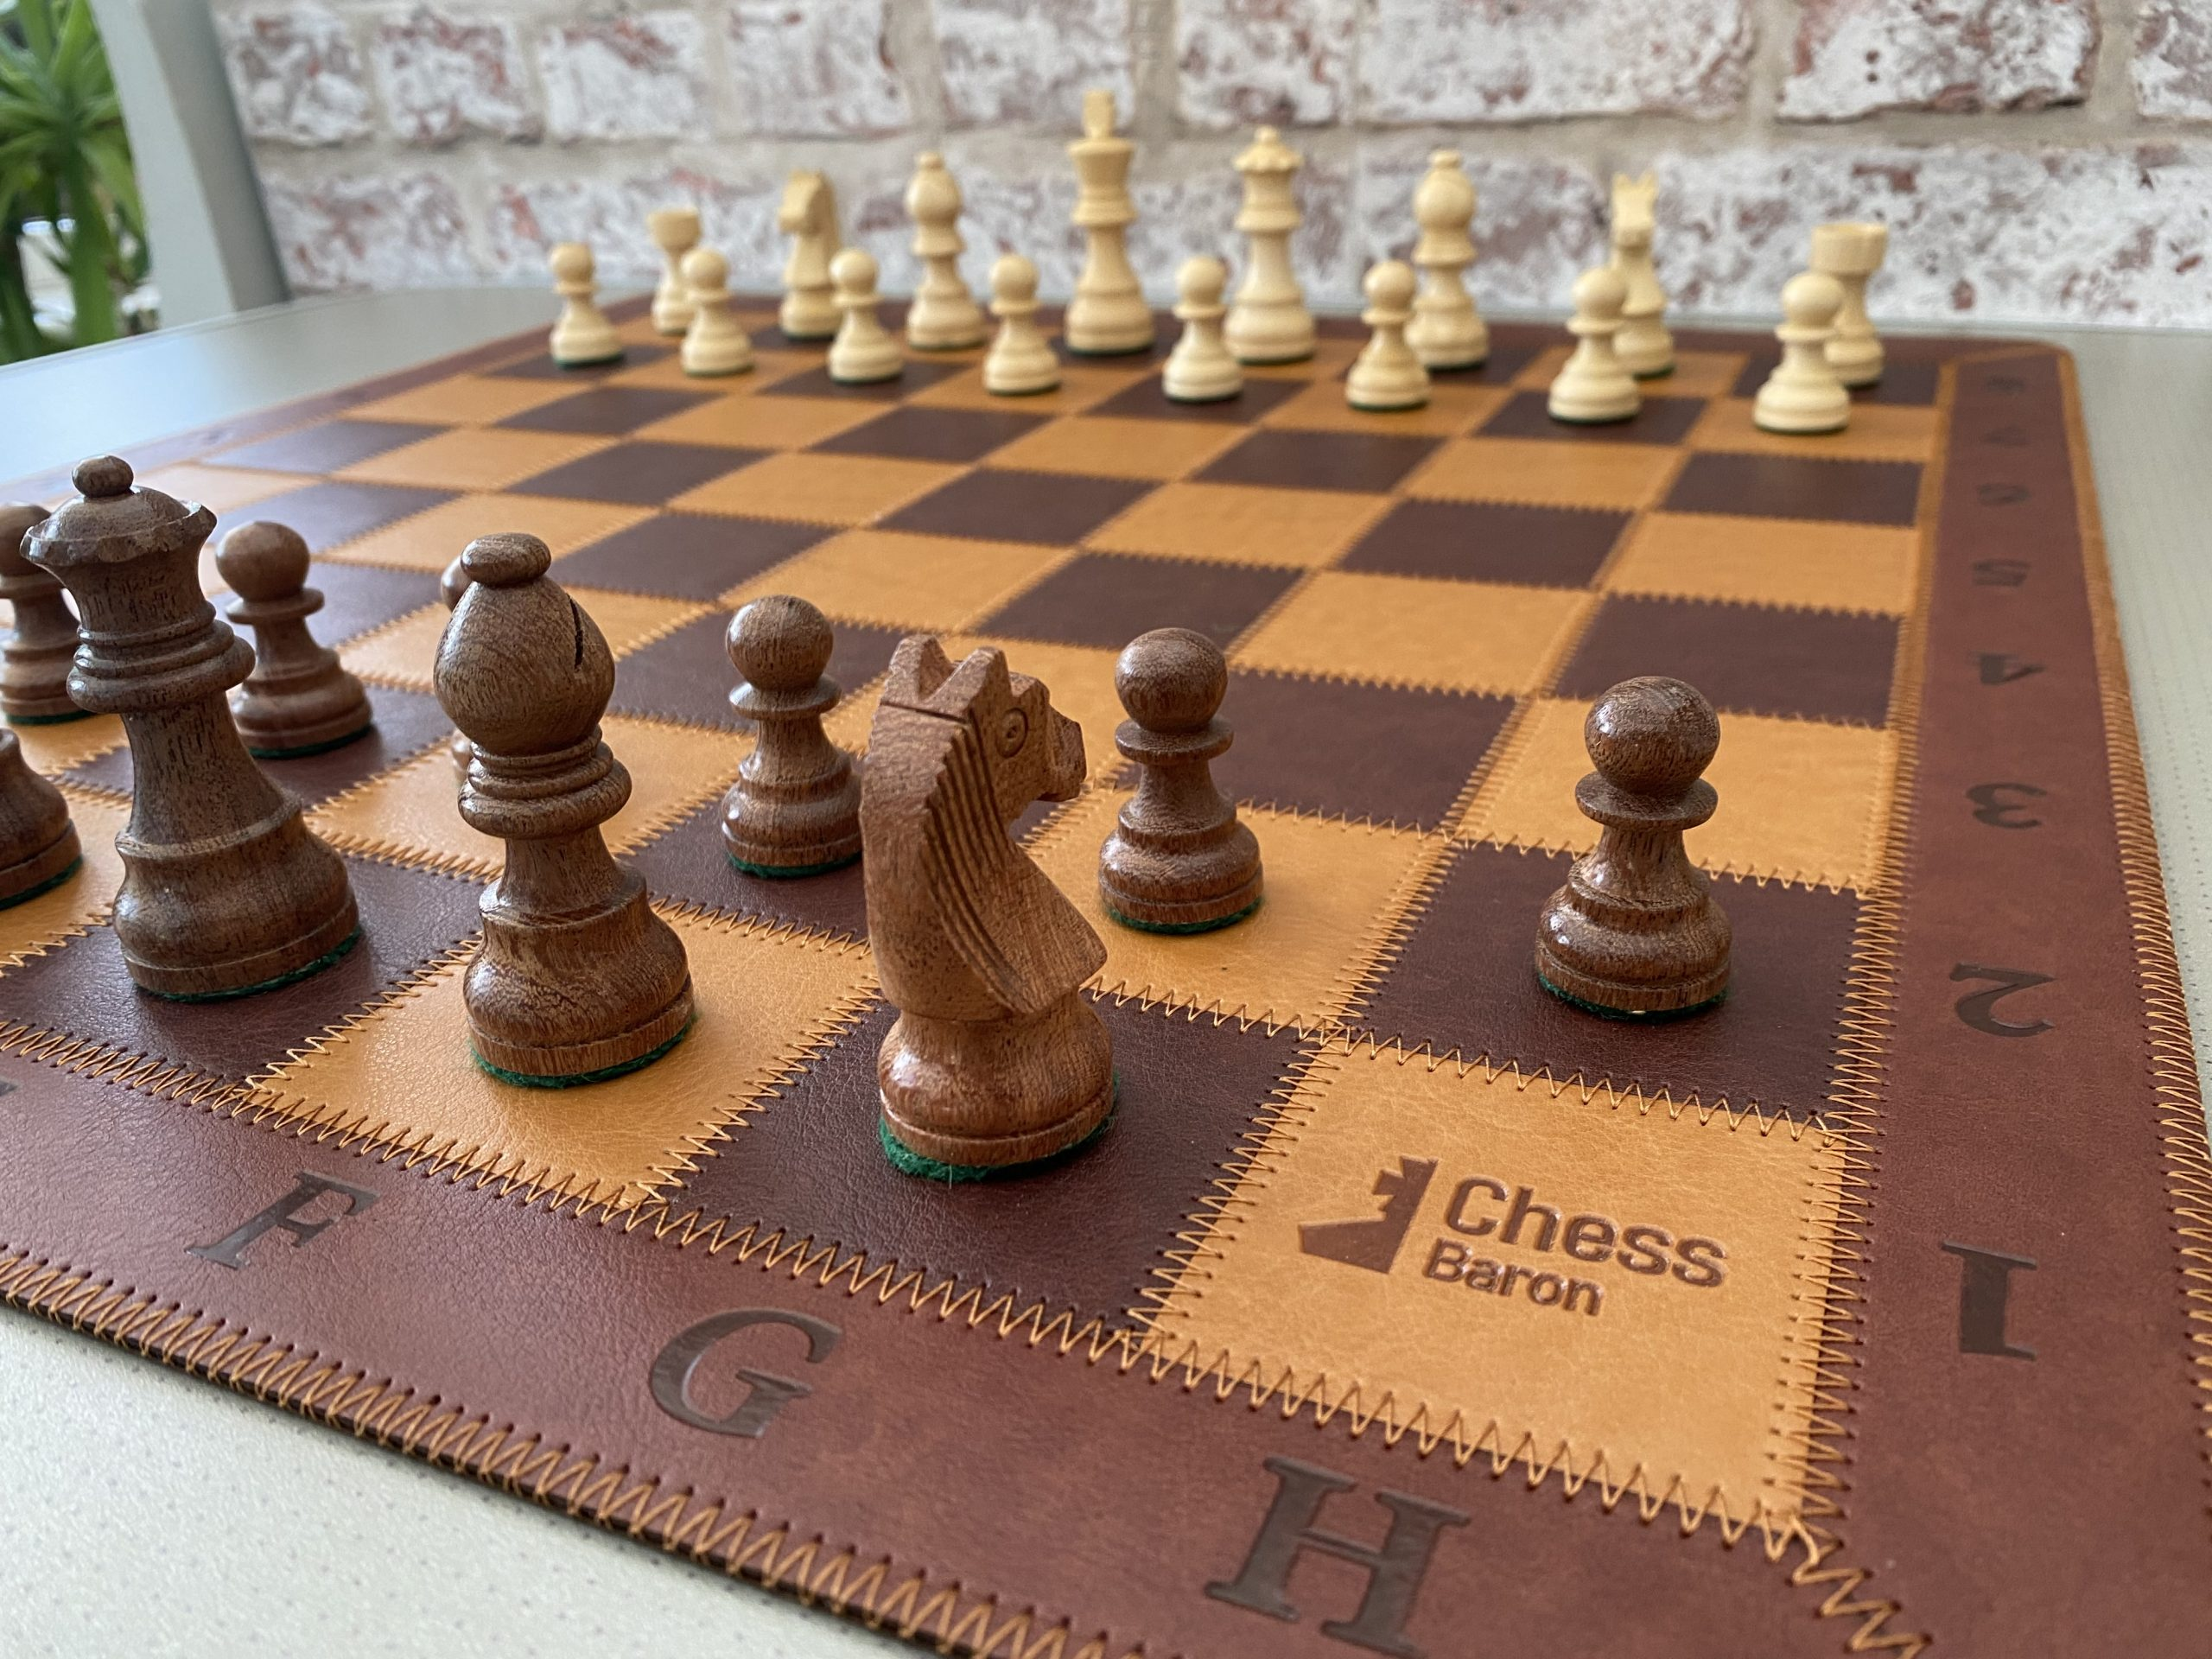BB: (427, 533, 700, 1089)
BN: (857, 641, 1120, 1187)
BP: (1524, 659, 1738, 1018), (1103, 627, 1266, 938), (721, 603, 864, 878), (212, 525, 376, 748)
BQ: (16, 448, 364, 1012)
WB: (1409, 143, 1493, 369), (900, 148, 989, 350)
WK: (1059, 85, 1160, 373)
WN: (1606, 169, 1677, 378), (773, 153, 852, 336)
WP: (1747, 272, 1851, 436), (1545, 263, 1649, 427), (972, 253, 1068, 401), (1160, 251, 1249, 404), (1343, 256, 1432, 408), (538, 232, 629, 373), (824, 247, 907, 389), (679, 251, 758, 378)
WQ: (1216, 124, 1322, 364)
WR: (1811, 223, 1888, 387), (646, 206, 698, 331)
